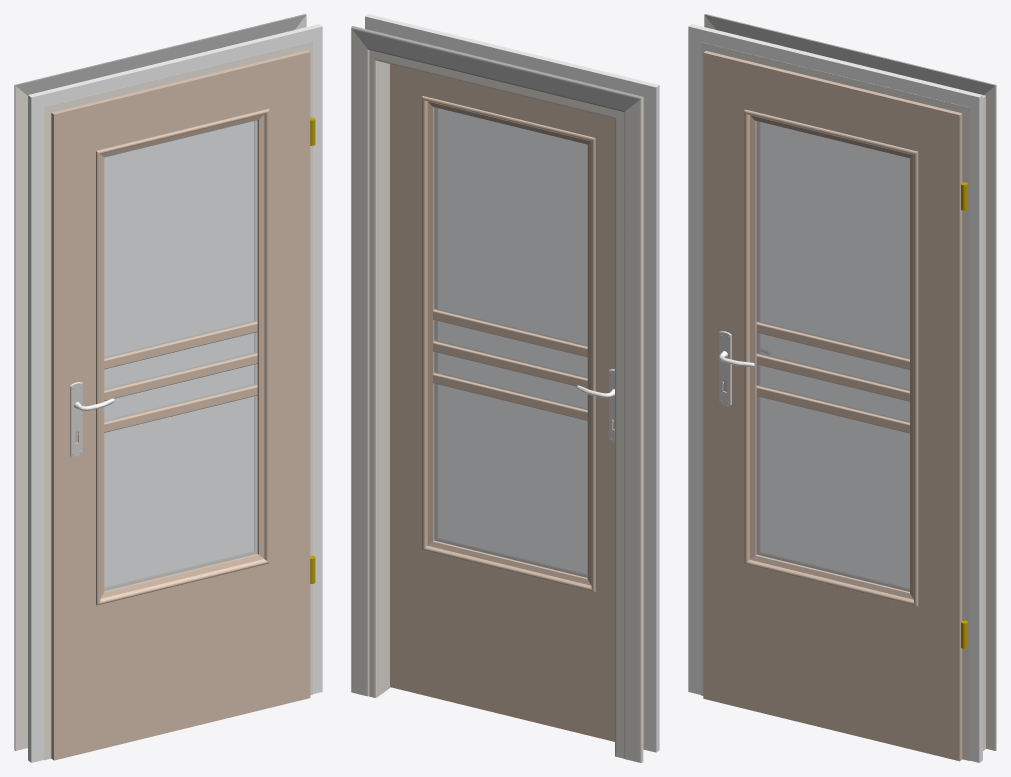
The model's file is sweethome3d-contributions-glass-door-467.glb.
3 views of the same model, side by side, from view 1: azimuth 30°, elevation 25°; view 2: azimuth 150°, elevation 25°; view 3: azimuth 330°, elevation 25° (orthographic).
Visible parts, largest first — view 1: sweethome3d_opening_on_hinge_1_Door_0, sweethome3d_opening_on_hinge_1_Glass_0, InnerCasing, sweethome3d_opening_on_hinge_1_Rama_geam_0, Casing, Toc, sweethome3d_opening_on_hinge_1_bare_orizontale_0, sweethome3d_opening_on_hinge_1_Clanta_R; view 2: sweethome3d_opening_on_hinge_1_Glass_0, sweethome3d_opening_on_hinge_1_Door_0, Casing, Toc, InnerCasing, sweethome3d_opening_on_hinge_1_Rama_geam_0, sweethome3d_opening_on_hinge_1_bare_orizontale_0; view 3: sweethome3d_opening_on_hinge_1_Door_0, sweethome3d_opening_on_hinge_1_Glass_0, InnerCasing, sweethome3d_opening_on_hinge_1_Rama_geam_0, Casing, Toc, sweethome3d_opening_on_hinge_1_bare_orizontale_0, sweethome3d_opening_on_hinge_1_Clanta_R.
Part boxes in pixels (x1,y1,x2,y2): sweethome3d_opening_on_hinge_1_Door_0: [51, 50, 310, 760]; sweethome3d_opening_on_hinge_1_Glass_0: [104, 120, 257, 590]; InnerCasing: [28, 24, 322, 762]; sweethome3d_opening_on_hinge_1_Rama_geam_0: [96, 108, 269, 605]; Casing: [14, 14, 306, 750]; Toc: [44, 41, 312, 760]; sweethome3d_opening_on_hinge_1_bare_orizontale_0: [104, 321, 257, 432]; sweethome3d_opening_on_hinge_1_Clanta_R: [70, 382, 82, 456]; sweethome3d_opening_on_hinge_1_Glass_0: [434, 107, 587, 577]; sweethome3d_opening_on_hinge_1_Door_0: [390, 64, 614, 741]; Casing: [351, 26, 643, 762]; Toc: [369, 50, 643, 758]; InnerCasing: [365, 14, 659, 752]; sweethome3d_opening_on_hinge_1_Rama_geam_0: [422, 96, 595, 591]; sweethome3d_opening_on_hinge_1_bare_orizontale_0: [433, 309, 587, 420]; sweethome3d_opening_on_hinge_1_Door_0: [703, 51, 962, 761]; sweethome3d_opening_on_hinge_1_Glass_0: [756, 121, 909, 591]; InnerCasing: [688, 24, 982, 762]; sweethome3d_opening_on_hinge_1_Rama_geam_0: [744, 109, 918, 605]; Casing: [704, 14, 996, 750]; Toc: [701, 42, 985, 760]; sweethome3d_opening_on_hinge_1_bare_orizontale_0: [756, 322, 909, 433]; sweethome3d_opening_on_hinge_1_Clanta_R: [719, 331, 731, 405].
Size of the model in its own units: 96 by 210 by 17.03.
